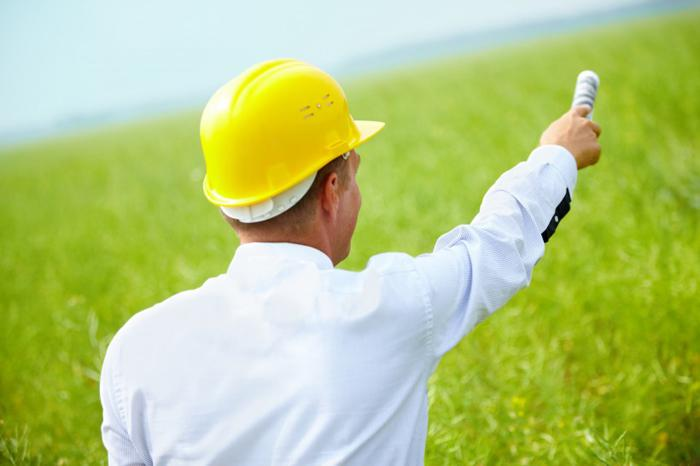helmet: (189, 55, 383, 271)
